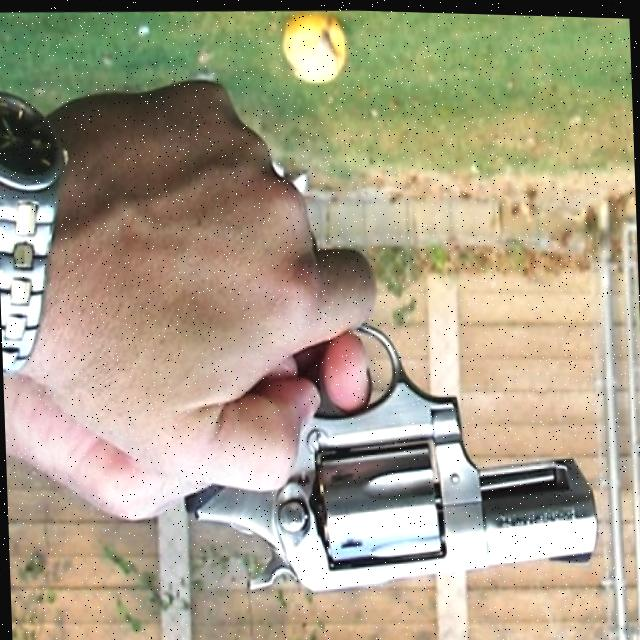pistol: (172, 311, 600, 602)
